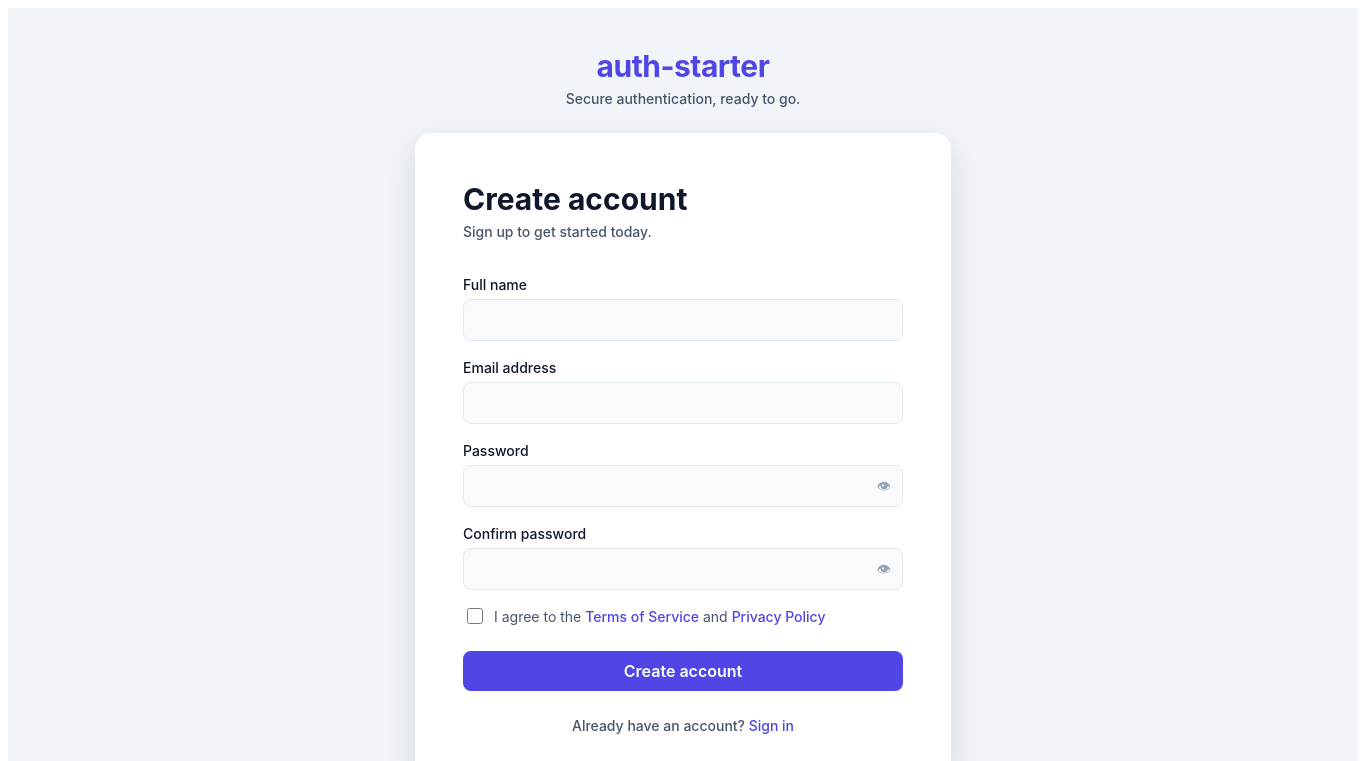
Test case: RegisterPage › field validation on blur › shows password error when field is blurred with short value
Type "short" into the password field labelled "Password" at (683, 486), box [463,465,903,507]
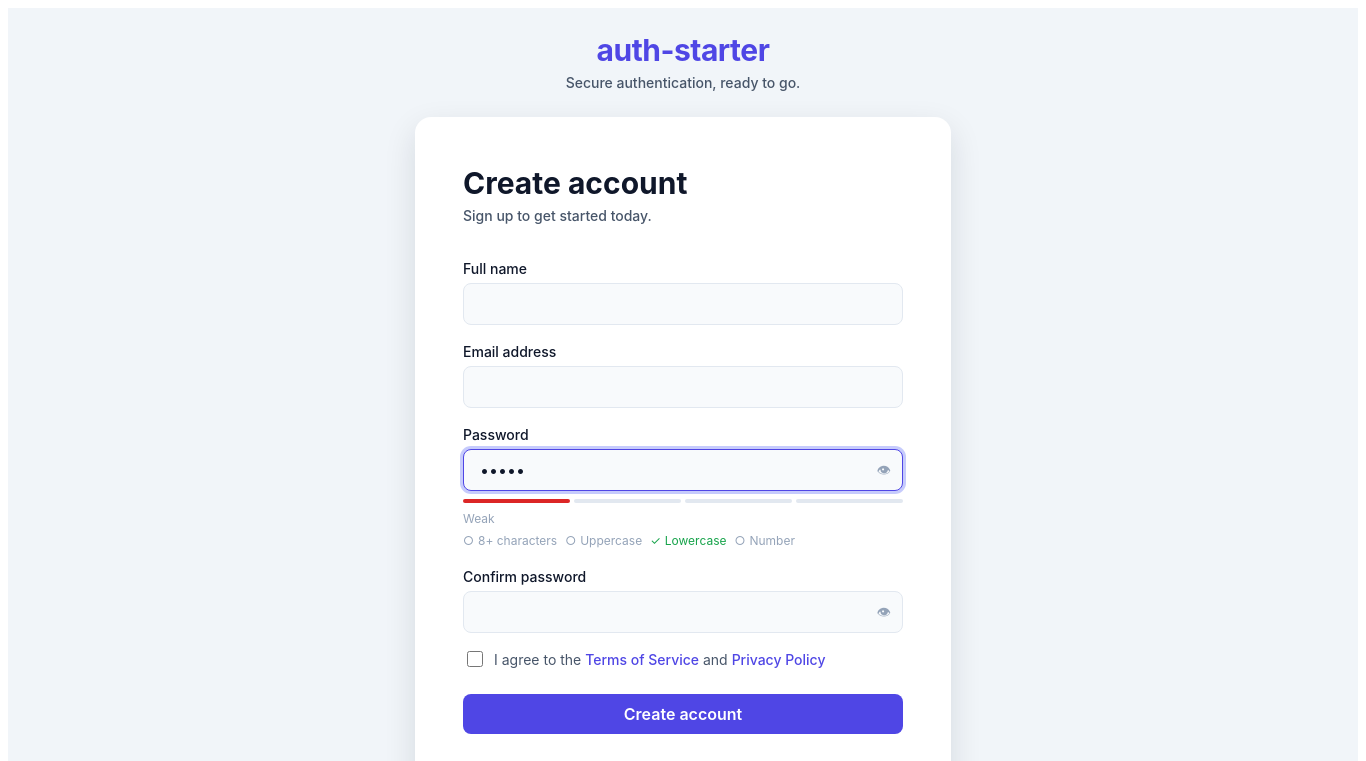
Leave the password field labelled "Password", box [463,449,903,491]
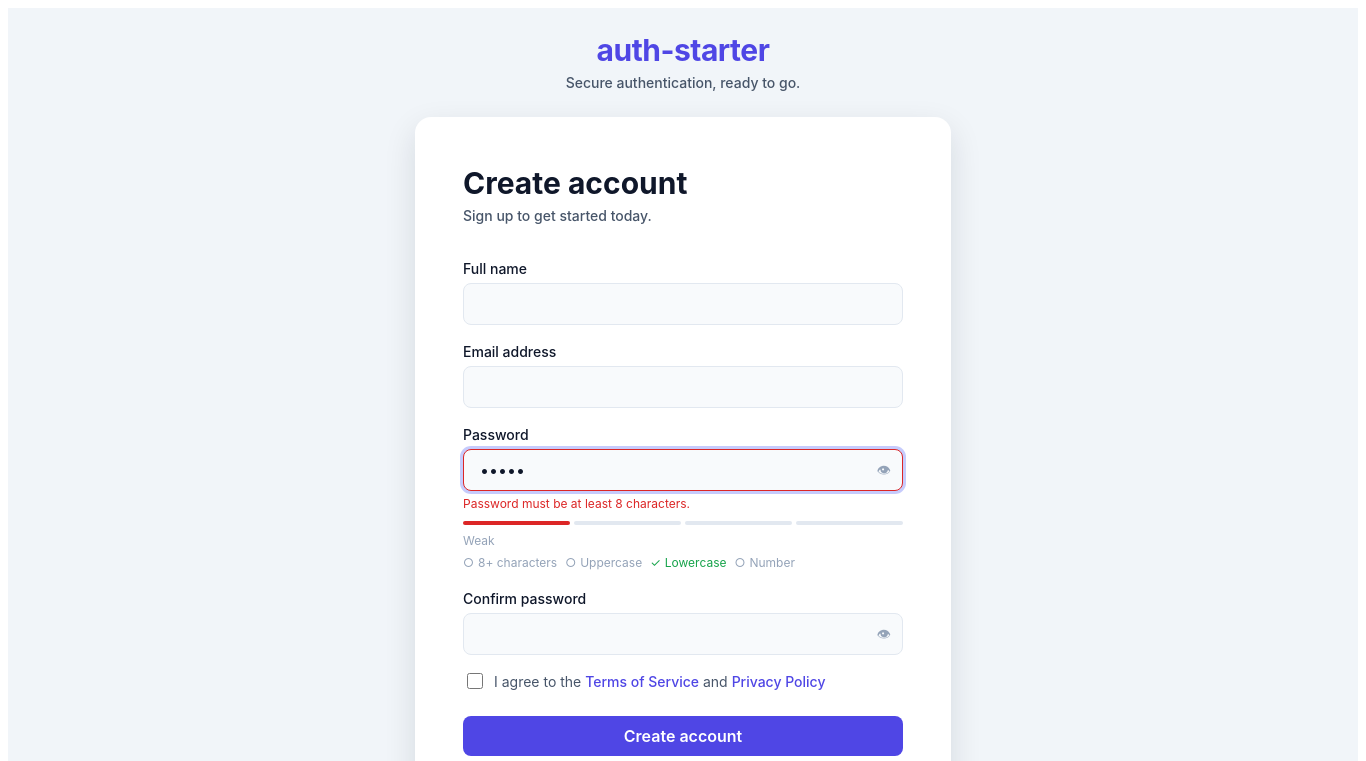
Expected: the text "Password must be at least 8 characters." is shown, [463,496,690,511]
